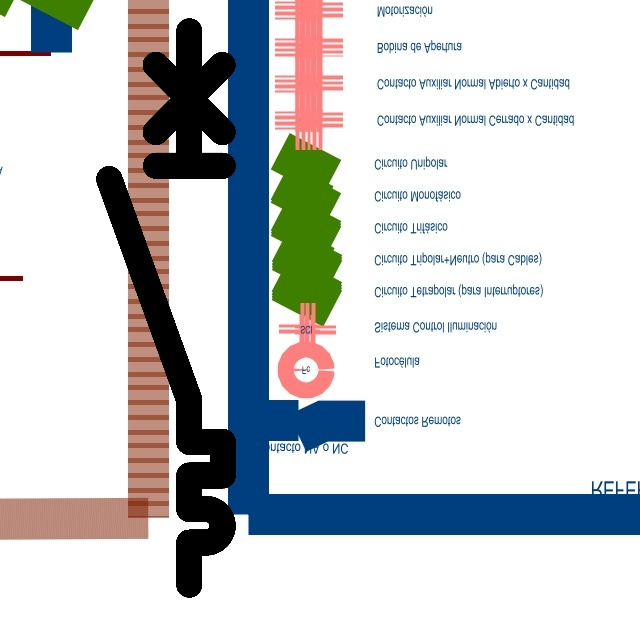interruptor_termomagnetico: (95, 17, 237, 599)
